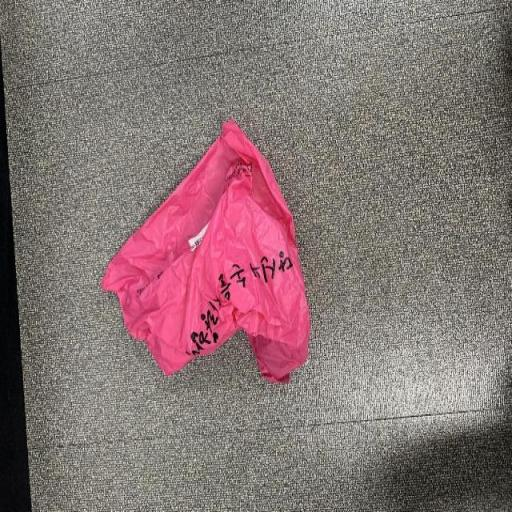plastic-bag: (100, 120, 314, 388)
